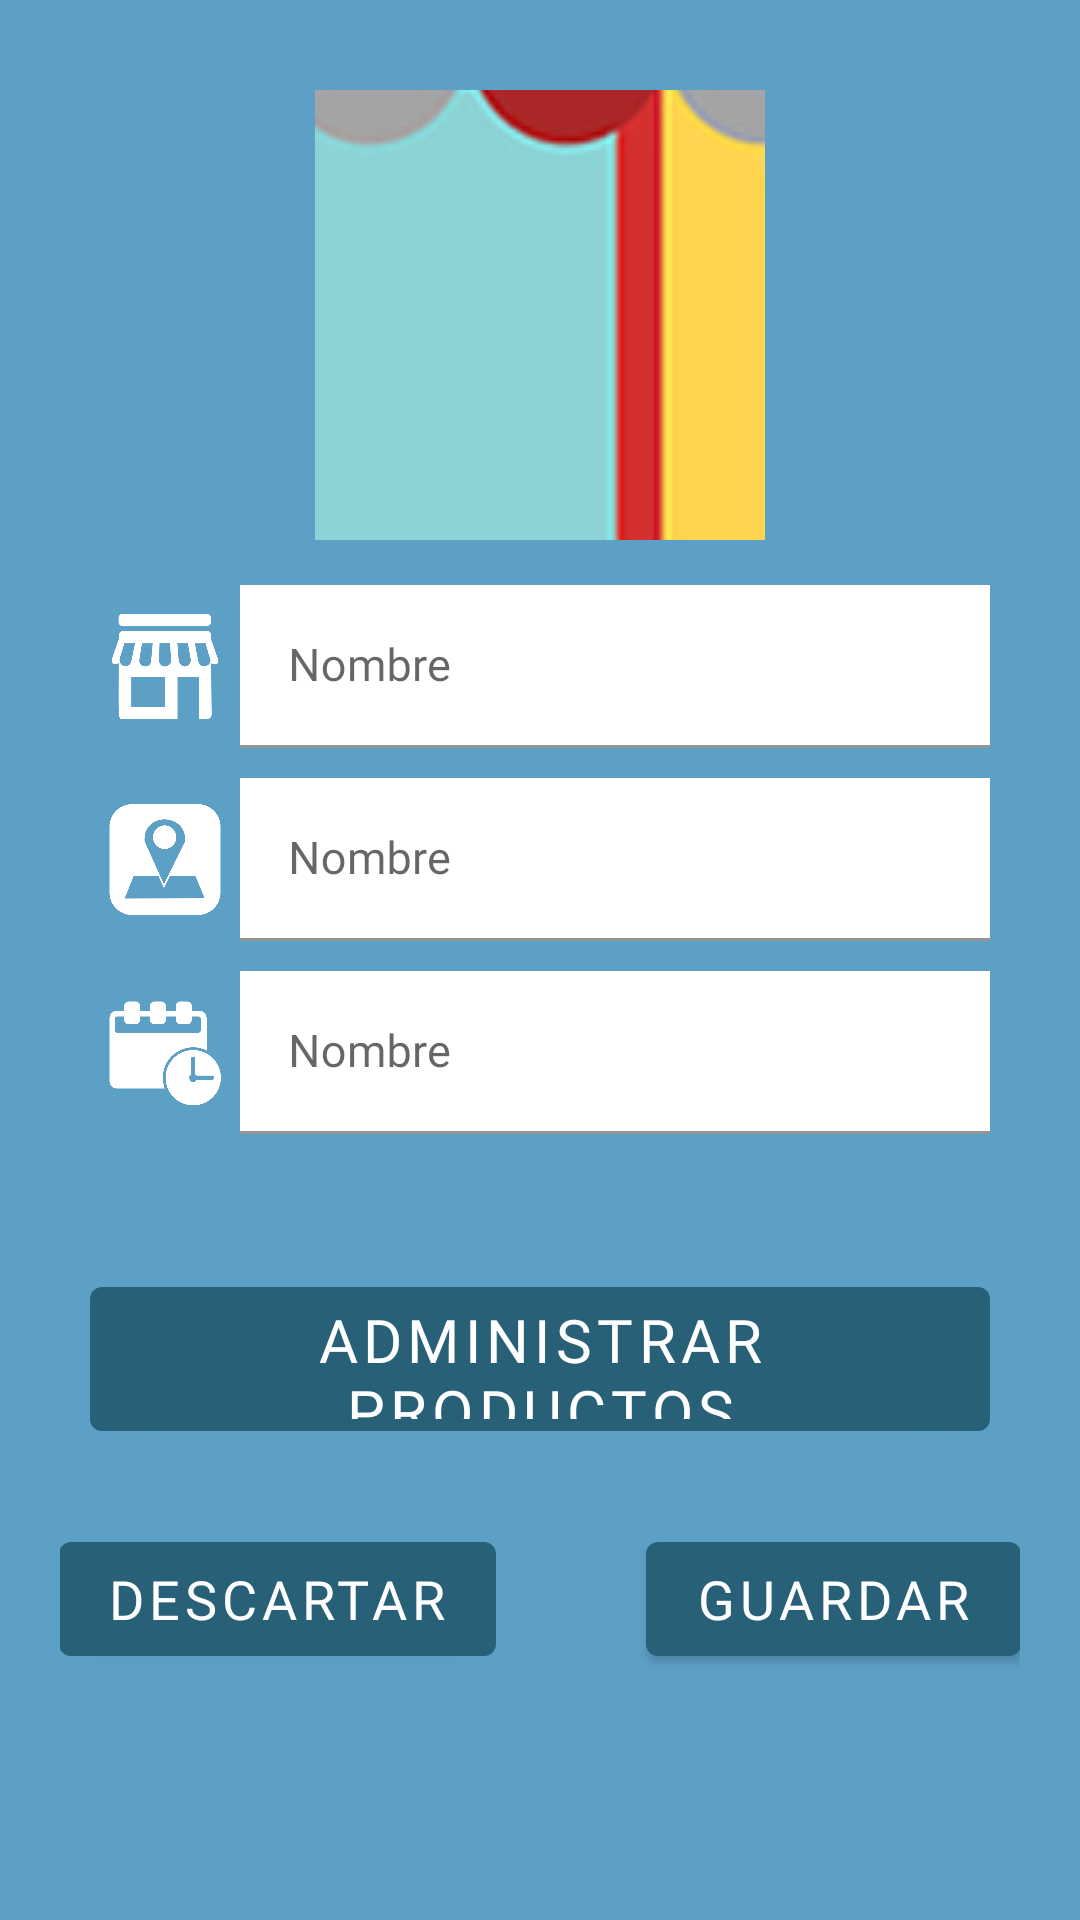

Named icons in this screenshot (1080×1920) and their bounding boxes, [x1, y1, x2, y2]:
business: [112, 614, 219, 719]
calendar: [109, 1001, 221, 1105]
location: [109, 804, 221, 915]
